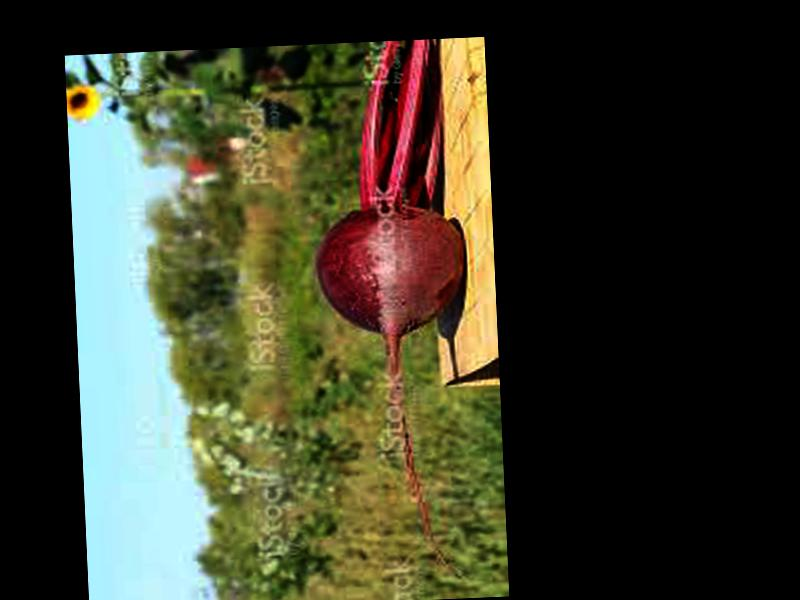Beet: (308, 37, 478, 583)
